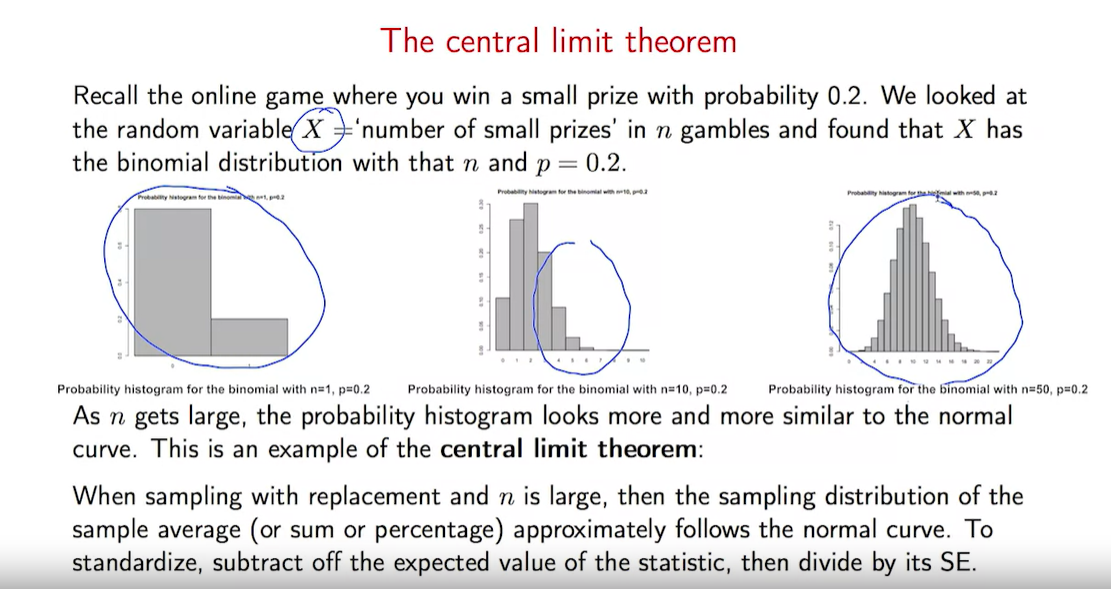figure: (768, 188, 1093, 400), (405, 188, 731, 399), (54, 191, 374, 399)
text: (73, 85, 1032, 179), (67, 481, 1024, 573), (68, 404, 1019, 469), (371, 23, 736, 61)
